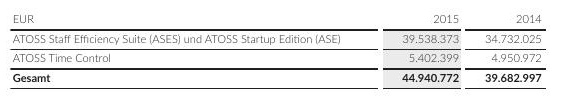table: (0, 0, 561, 100)
